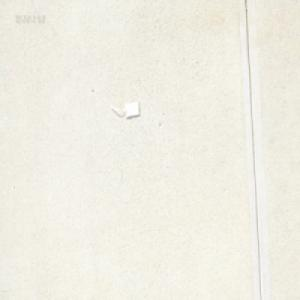LuggageTag: (109, 100, 141, 117)
